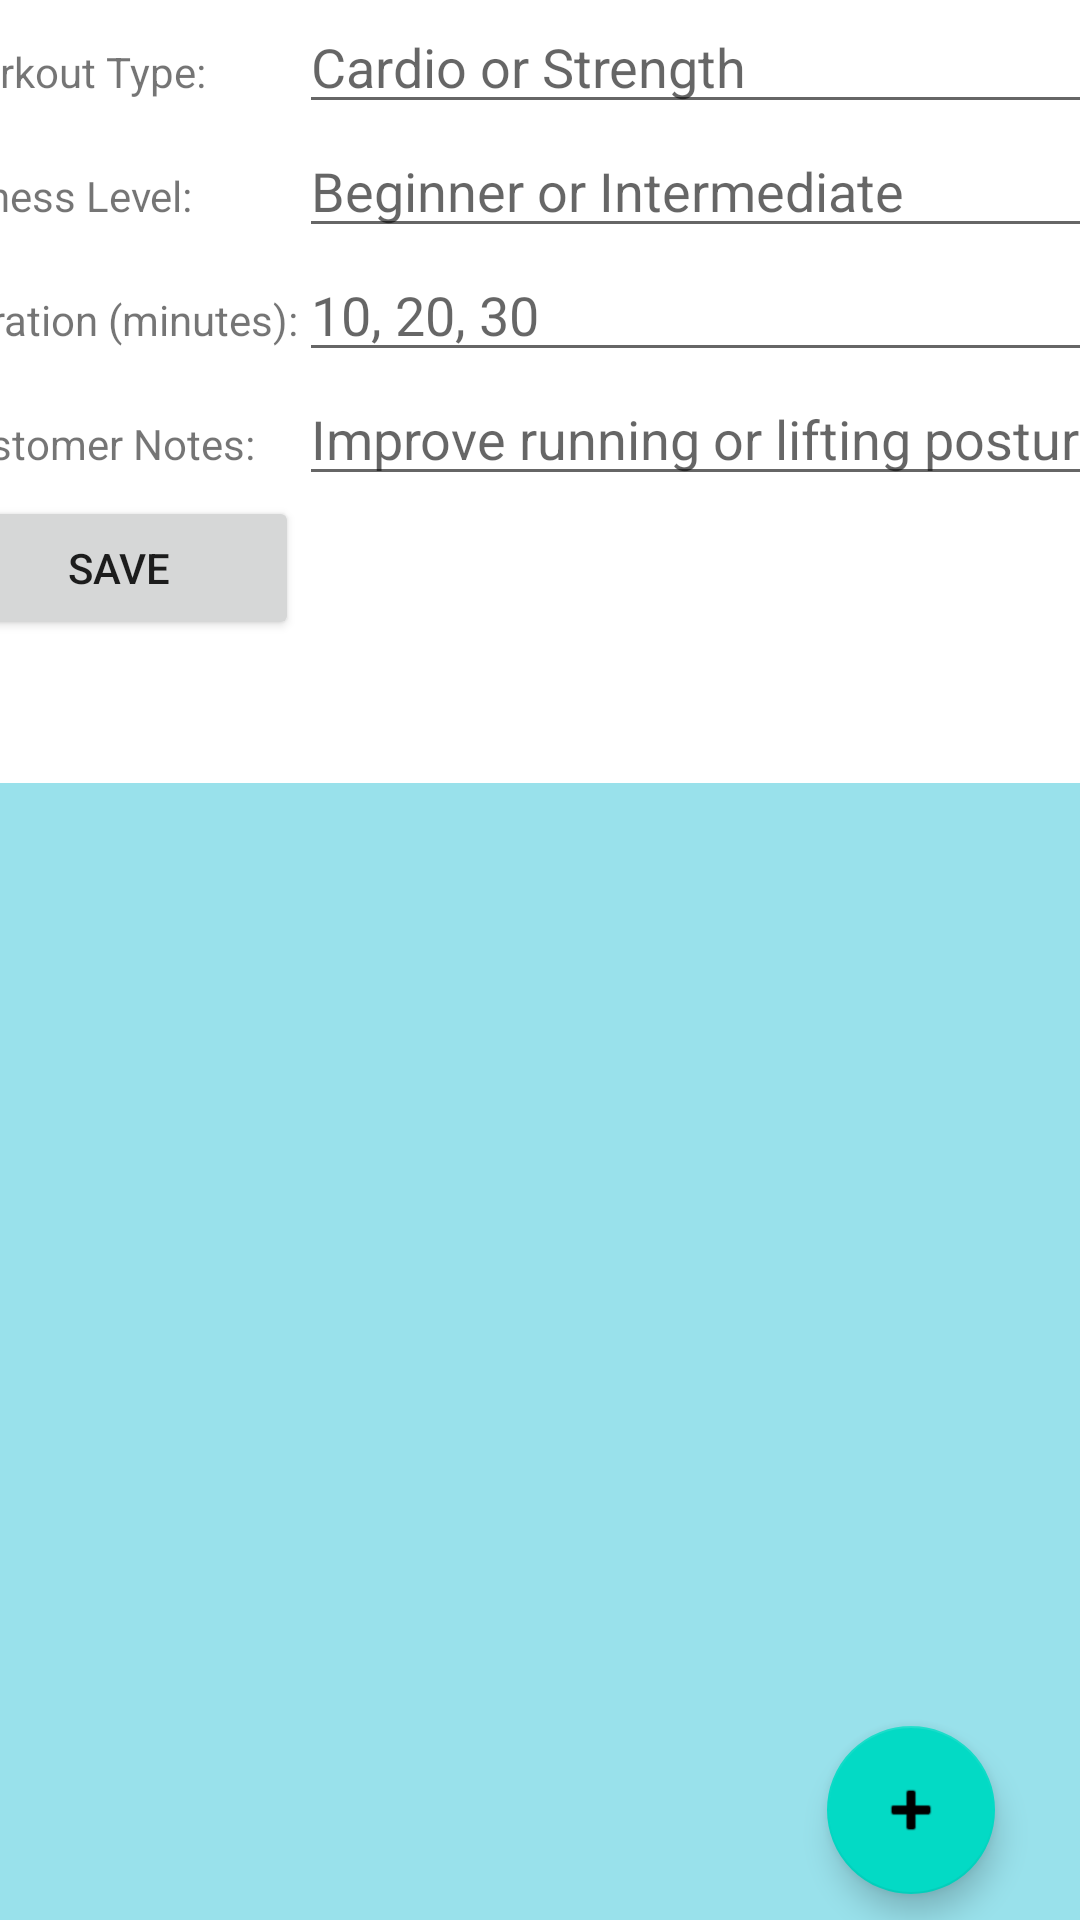

Point at icon controls on the screen. Image size 1080 × 1920, points as (x,y).
add: (911,1810)
